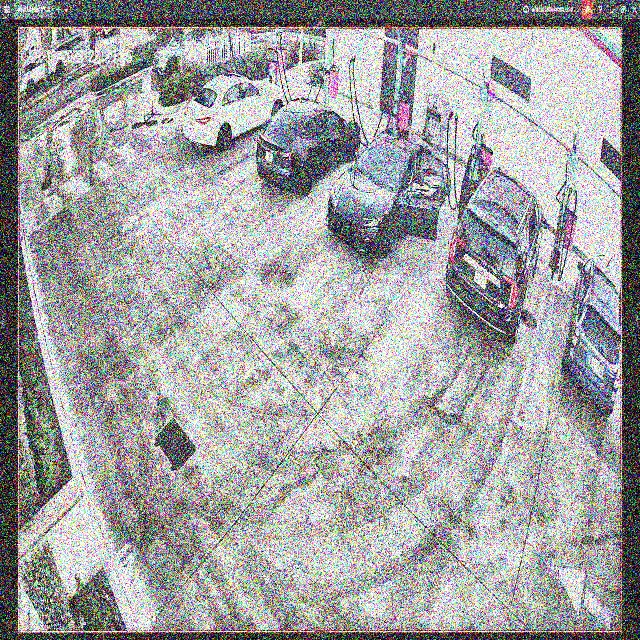Car: (444, 168, 545, 343), (325, 124, 452, 260), (257, 92, 360, 192), (181, 70, 286, 152)
